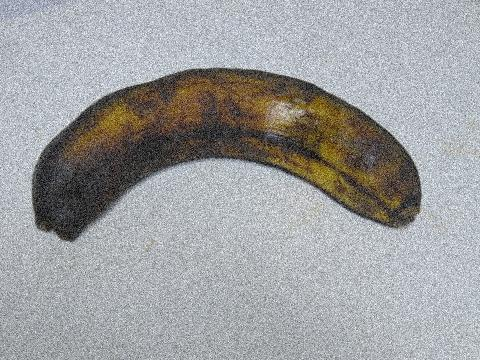overripe: (20, 55, 445, 284)
